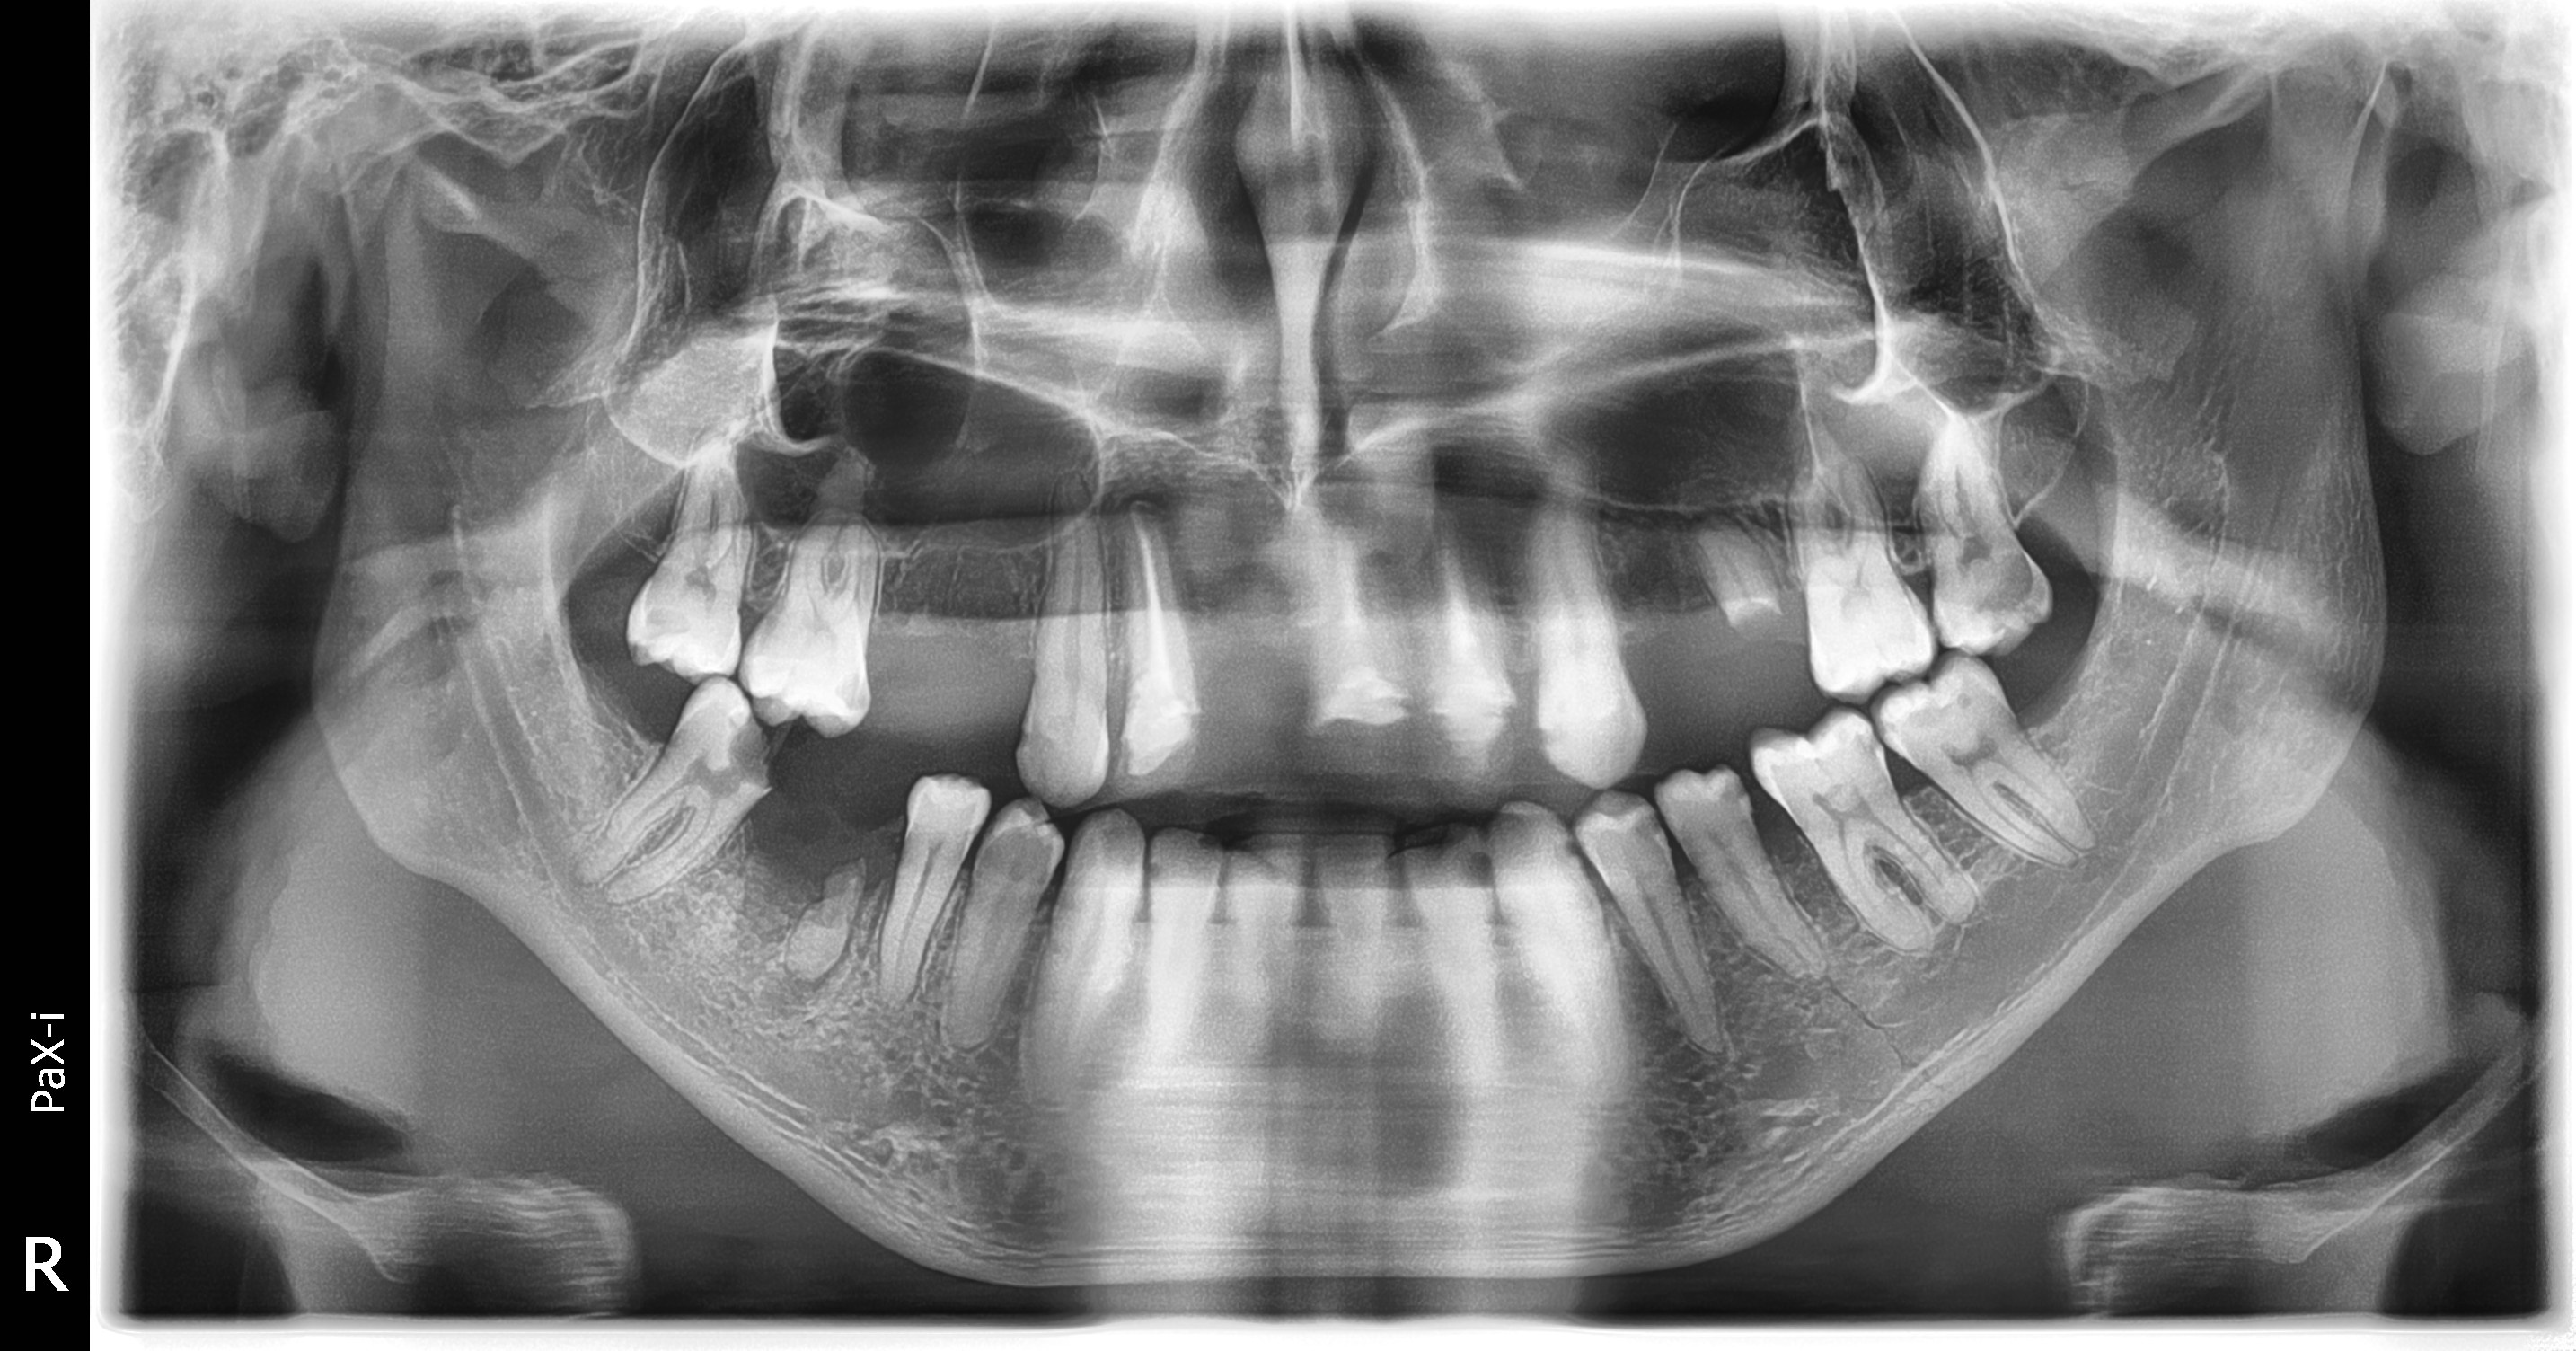BON: (1874, 729, 1947, 826), (1877, 543, 1959, 627), (1748, 790, 1816, 881), (624, 523, 680, 605), (1574, 872, 1641, 940), (719, 578, 773, 659), (1663, 843, 1714, 925), (1009, 632, 1058, 716), (854, 610, 910, 678)
CAR: (1285, 698, 1407, 801), (1106, 707, 1211, 816), (719, 702, 821, 814), (1002, 709, 1061, 790), (1446, 833, 1508, 906), (1527, 705, 1579, 763)
END: (1116, 508, 1199, 683), (1310, 521, 1392, 678), (1428, 515, 1489, 675)
ROT: (1673, 494, 1806, 642), (772, 845, 874, 1000)
